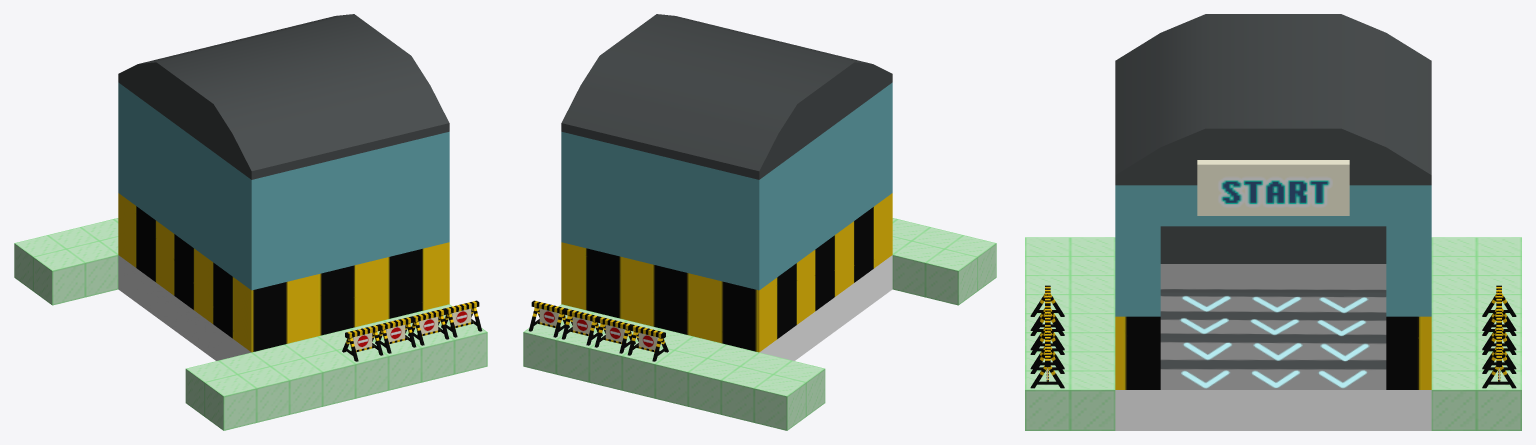
The model's file is Tankhouse.fbx.
3 renders of one model, left to right at view 1: azimuth 30°, elevation 25°; view 2: azimuth 150°, elevation 25°; view 3: azimuth 270°, elevation 25°, orthographic. The views are drawn at different scales.
Parts seen in each view (by area): view 1: Building, Ground, Ground001, Barricade003, Barricade, Barricade001, Barricade002; view 2: Building, Ground001, Ground, Barricade007, Barricade005, Barricade004, Barricade006; view 3: Building, Ground, Ground001, Texture, Barricade, Barricade004, Barricade001, Barricade005, Barricade002, Barricade006, Barricade003, Barricade007.
Boxes of the visible parts, <box> form: Building: <box>118,14,449,360</box>; Ground: <box>185,304,487,430</box>; Ground001: <box>14,218,118,305</box>; Barricade003: <box>342,324,383,361</box>; Barricade: <box>441,300,482,337</box>; Barricade001: <box>408,308,449,345</box>; Barricade002: <box>375,316,416,353</box>; Building: <box>561,14,892,360</box>; Ground001: <box>523,304,825,430</box>; Ground: <box>892,218,996,305</box>; Barricade007: <box>627,324,668,361</box>; Barricade005: <box>561,308,602,345</box>; Barricade004: <box>528,300,569,337</box>; Barricade006: <box>594,316,635,353</box>; Building: <box>1115,14,1431,430</box>; Ground: <box>1025,237,1115,430</box>; Ground001: <box>1431,237,1521,430</box>; Texture: <box>1197,160,1349,215</box>; Barricade: <box>1030,343,1064,388</box>; Barricade004: <box>1482,343,1516,388</box>; Barricade001: <box>1030,323,1064,369</box>; Barricade005: <box>1482,323,1516,369</box>; Barricade002: <box>1030,304,1064,350</box>; Barricade006: <box>1482,304,1516,350</box>; Barricade003: <box>1030,285,1064,330</box>; Barricade007: <box>1482,285,1516,330</box>.
Size of the model in its own units: 3400 by 2956 by 4400.
